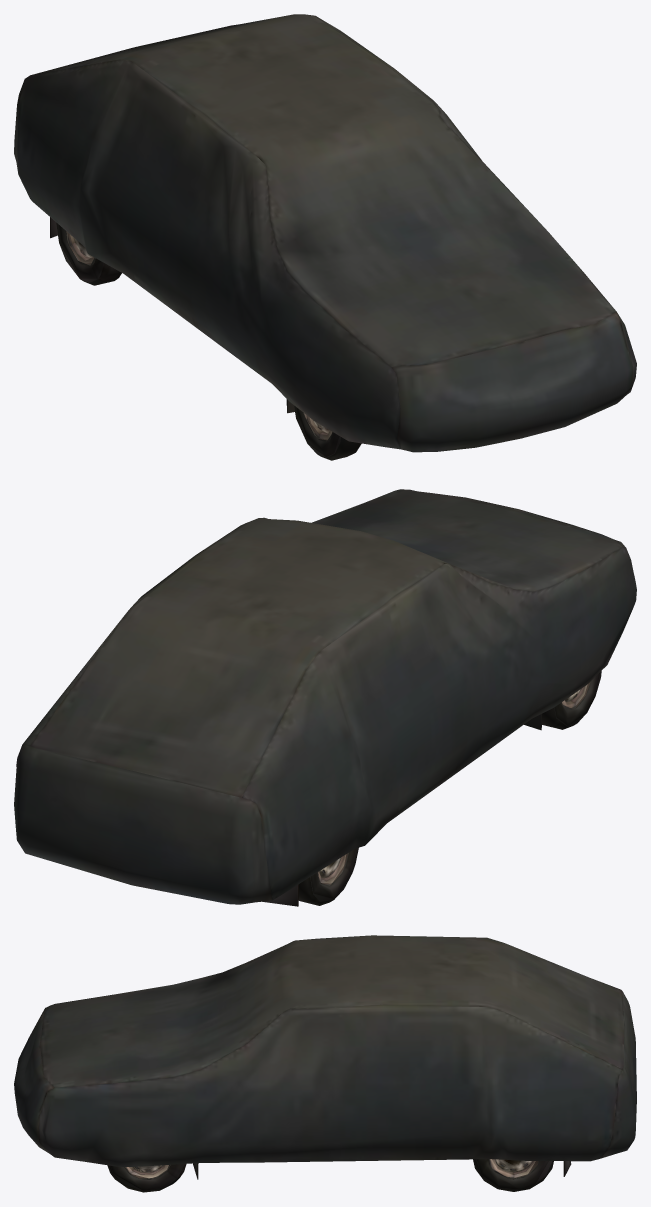
File: covered_car_lod1.glb
3 views of the same model, one above another, from view 1: azimuth 30°, elevation 25°; view 2: azimuth 150°, elevation 25°; view 3: azimuth 270°, elevation 25° (orthographic). The views are drawn at different scales.
Parts seen in each view (by area): view 1: covered_car_wheel_01; view 2: covered_car_wheel_01; view 3: covered_car_wheel_01.
Boxes of the visible parts, x1,y1,x2,y2 form: covered_car_wheel_01: [14, 14, 636, 460]; covered_car_wheel_01: [14, 489, 636, 906]; covered_car_wheel_01: [14, 935, 636, 1192].
Size of the model in its own units: 1.79 by 1.41 by 4.38.
Materials: 1 (1 with a texture image).
